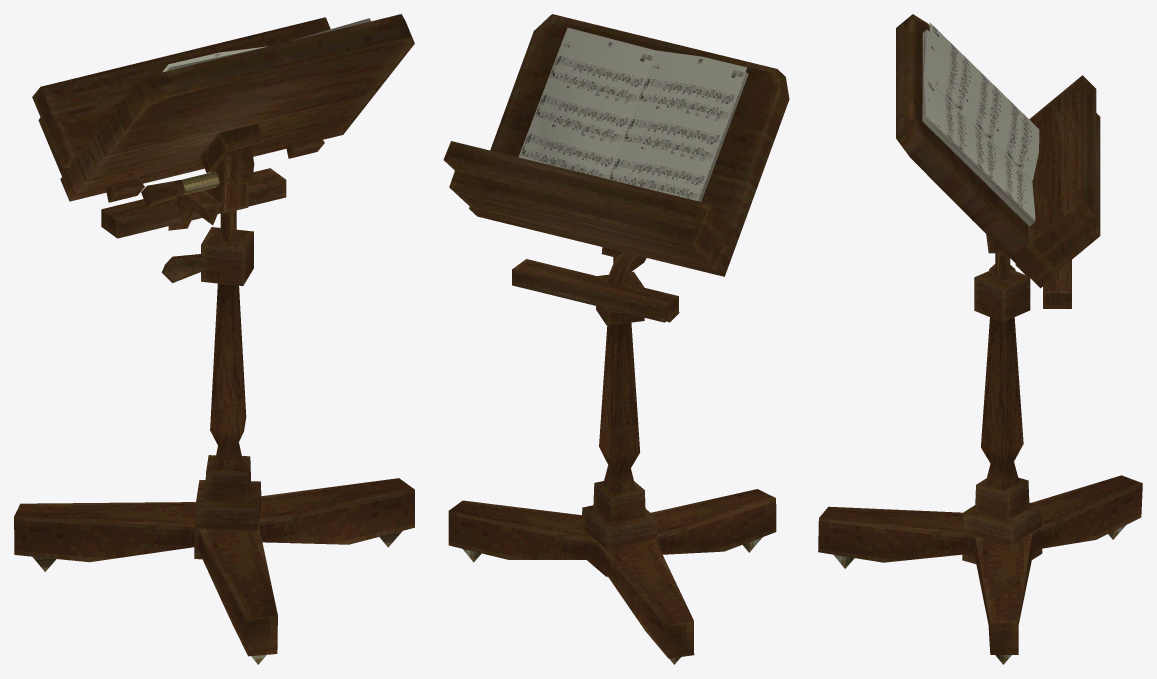
Rendered from ps2_save-icons_kinironocorda2encore.glb.
3 views of the same model, side by side, from view 1: azimuth 30°, elevation 25°; view 2: azimuth 150°, elevation 25°; view 3: azimuth 270°, elevation 25° (orthographic). The views are drawn at different scales.
Parts seen in each view (by area): view 1: view.ico; view 2: view.ico; view 3: view.ico.
Boxes of the visible parts, bbox=[...] form: view.ico: bbox=[14, 14, 414, 664]; view.ico: bbox=[443, 14, 789, 664]; view.ico: bbox=[818, 14, 1142, 664].
Size of the model in its own units: 2.65 by 4.49 by 2.51.
1 material, 1 textured.
